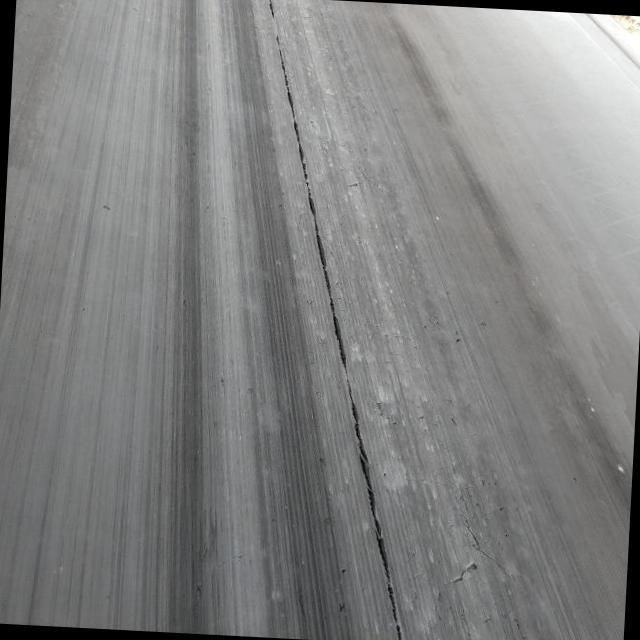Tear: (262, 0, 406, 640)
